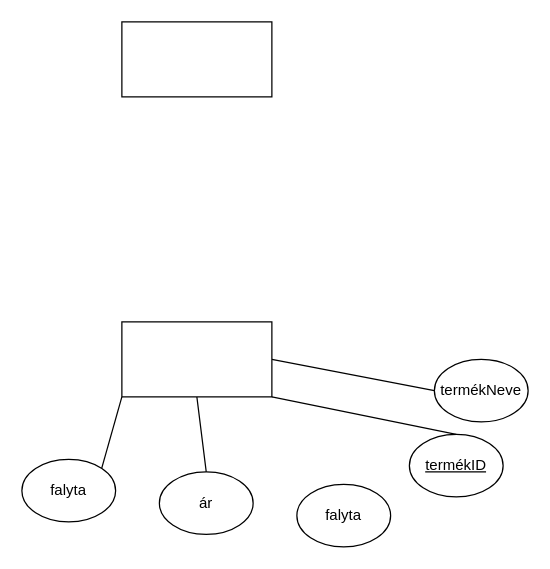
Image size: 550x569. Some labels were removed from this diagram. The box of each missing label's shape, as (x1, y1, x2, y2) in pixels:
Termék: (121, 321, 272, 397)
Vásárló: (121, 21, 272, 97)
